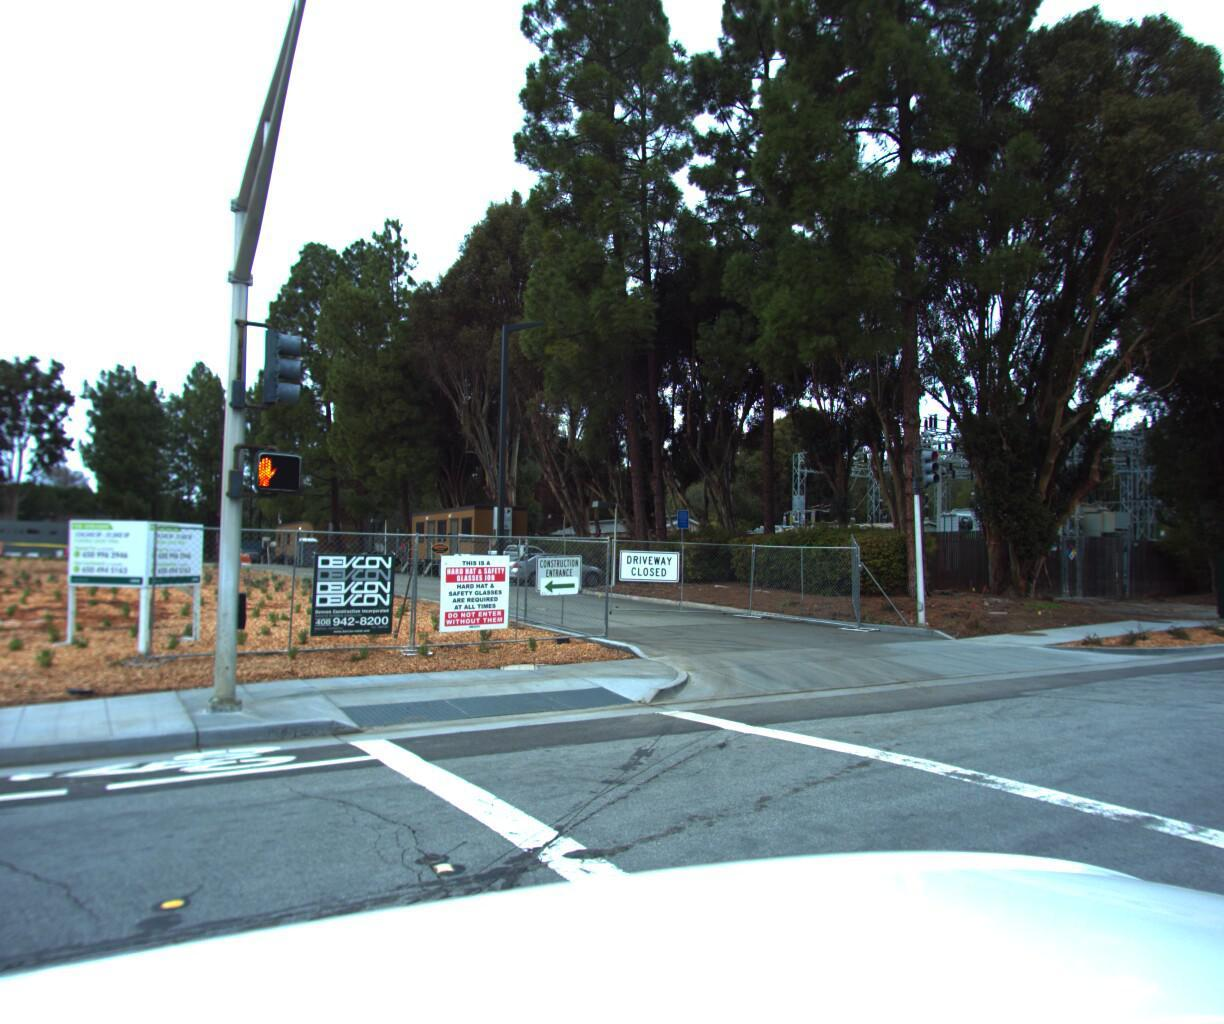car: (449, 531, 575, 581)
